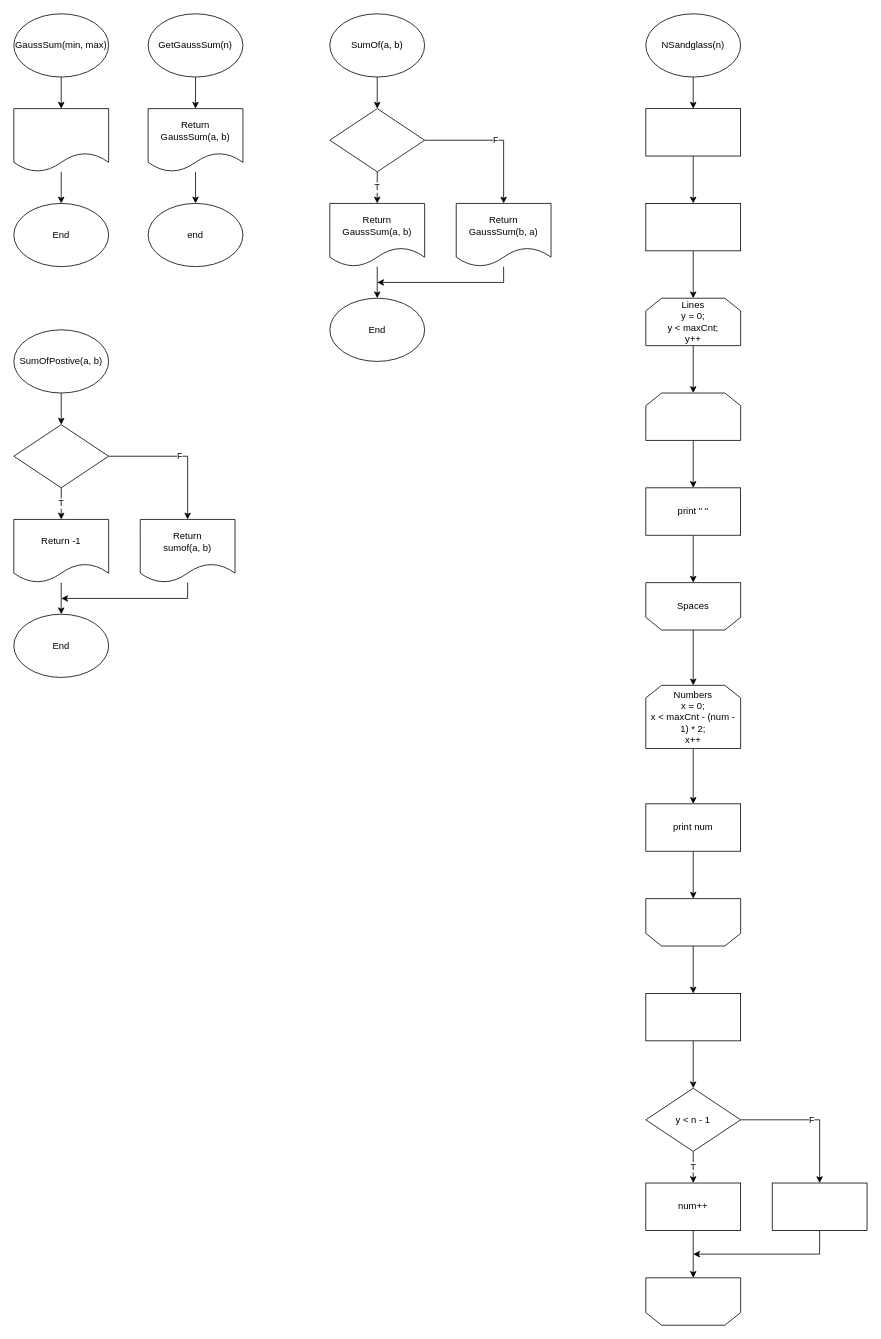
Image size: 881x1339. Some labels were removed from this diagram. Here are the shapes that lost their labels. From the top down, the centre of each, then its label:
At (61,140): "Return (min+max) * ((max - min+ 1) / 2)".
At (377,140): "a < b".
At (693,132): "maxCnt = (n*2)-1".
At (693,227): "num = 1".
At (693,416): "Spaces x = 0; x < num - 1; x++".
At (61,456): "a <= 0 || b <= 0".
At (693,922): "Numbers".
At (693,1017): "print line".
At (819,1206): "num--".
At (693,1301): "Lines".
